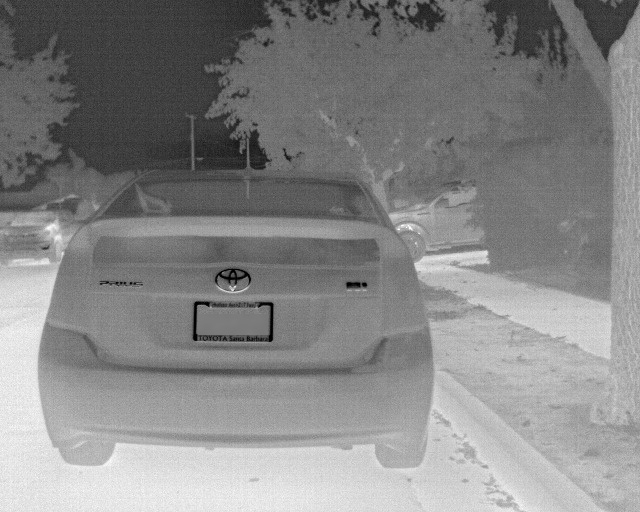vehicle: (35, 170, 433, 478), (400, 176, 515, 255), (3, 208, 84, 265)
